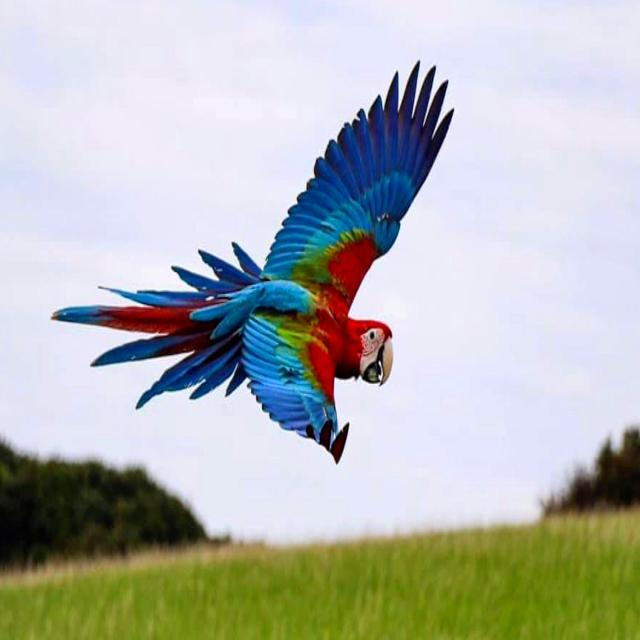parrot: (52, 65, 453, 462)
